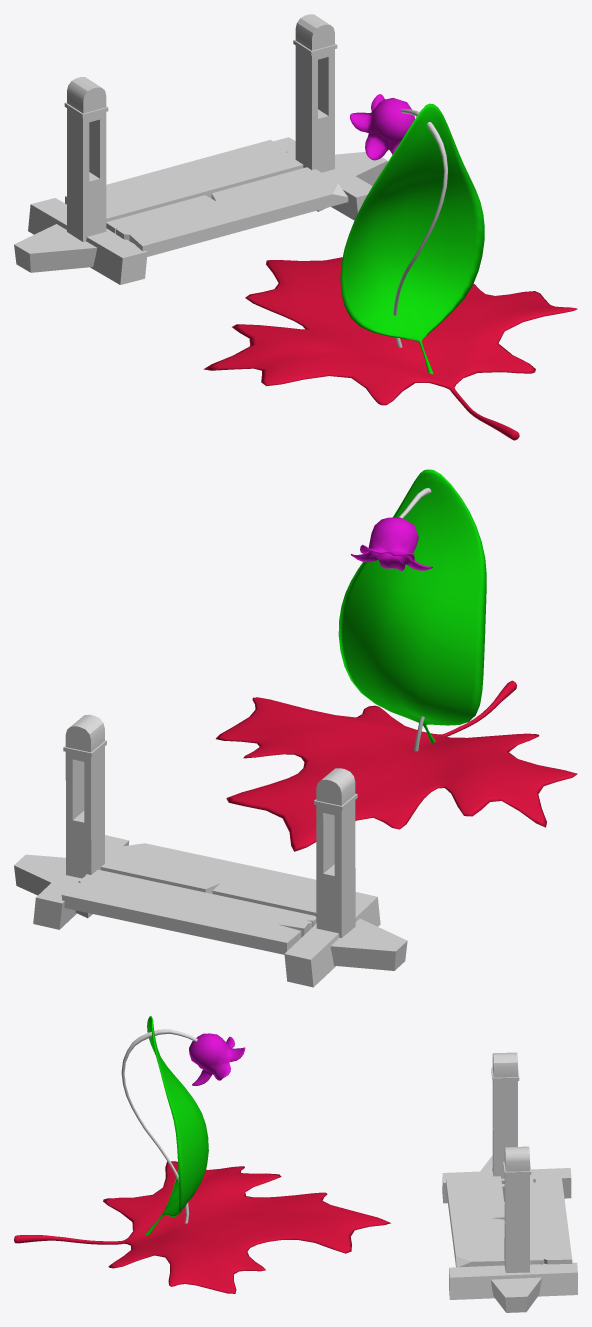
Rendered from Mount.fbx.
3 renders of one model, top to bottom at view 1: azimuth 30°, elevation 25°; view 2: azimuth 150°, elevation 25°; view 3: azimuth 270°, elevation 25°, orthographic. The views are drawn at different scales.
Visible parts, largest first — view 1: Leaf Boat Low, Suspension Bridge; view 2: Leaf Boat Low, Suspension Bridge; view 3: Leaf Boat Low, Suspension Bridge.
Boxes of the visible parts, left/top/right/bottom form: Leaf Boat Low: left=203, top=94, right=577, bottom=440; Suspension Bridge: left=14, top=14, right=387, bottom=284; Leaf Boat Low: left=216, top=469, right=577, bottom=851; Suspension Bridge: left=14, top=714, right=407, bottom=987; Leaf Boat Low: left=14, top=1016, right=390, bottom=1293; Suspension Bridge: left=442, top=1052, right=577, bottom=1312.
Size of the model in its own units: 9.62 by 7.03 by 15.73.
